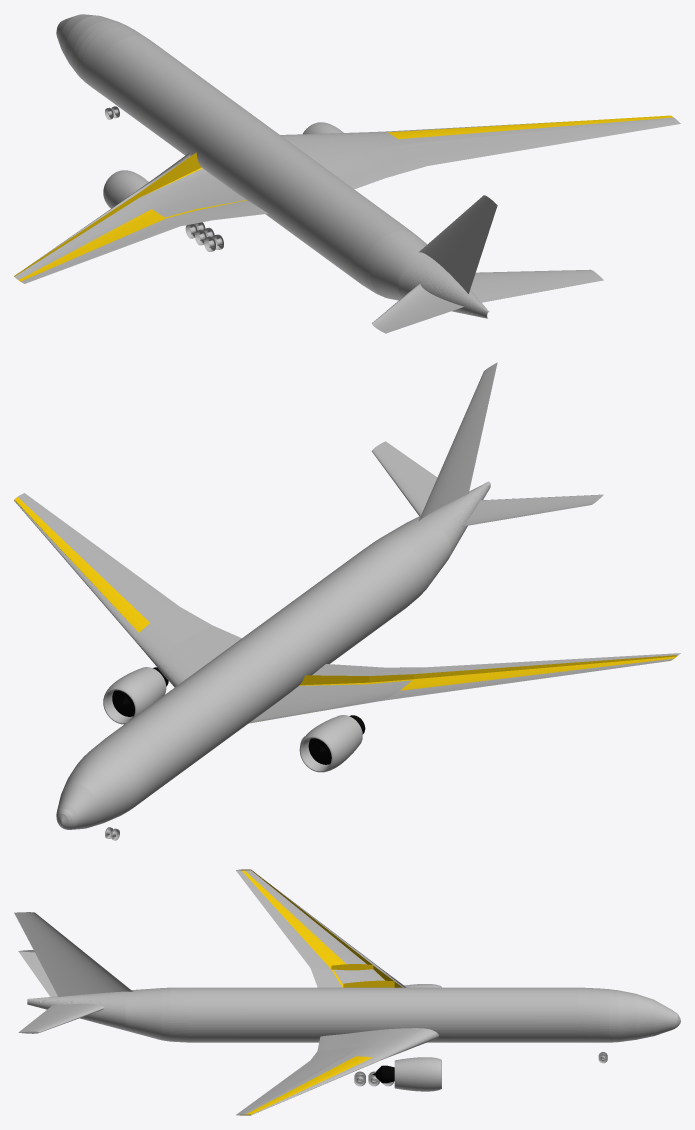
Rendered from Boeing_777_200er.gltf.
The picture shows the model from 3 angles, top to bottom: view 1: azimuth 30°, elevation 25°; view 2: azimuth 150°, elevation 25°; view 3: azimuth 270°, elevation 25°; orthographic projection. The views are drawn at different scales.
Parts seen in each view (by area): view 1: Renderer Node; view 2: Renderer Node; view 3: Renderer Node.
Boxes of the visible parts, left/top/right/bottom form: Renderer Node: left=14, top=14, right=680, bottom=333; Renderer Node: left=14, top=362, right=680, bottom=840; Renderer Node: left=14, top=869, right=680, bottom=1115.
Size of the model in its own units: 64.8 by 18.55 by 74.56.
